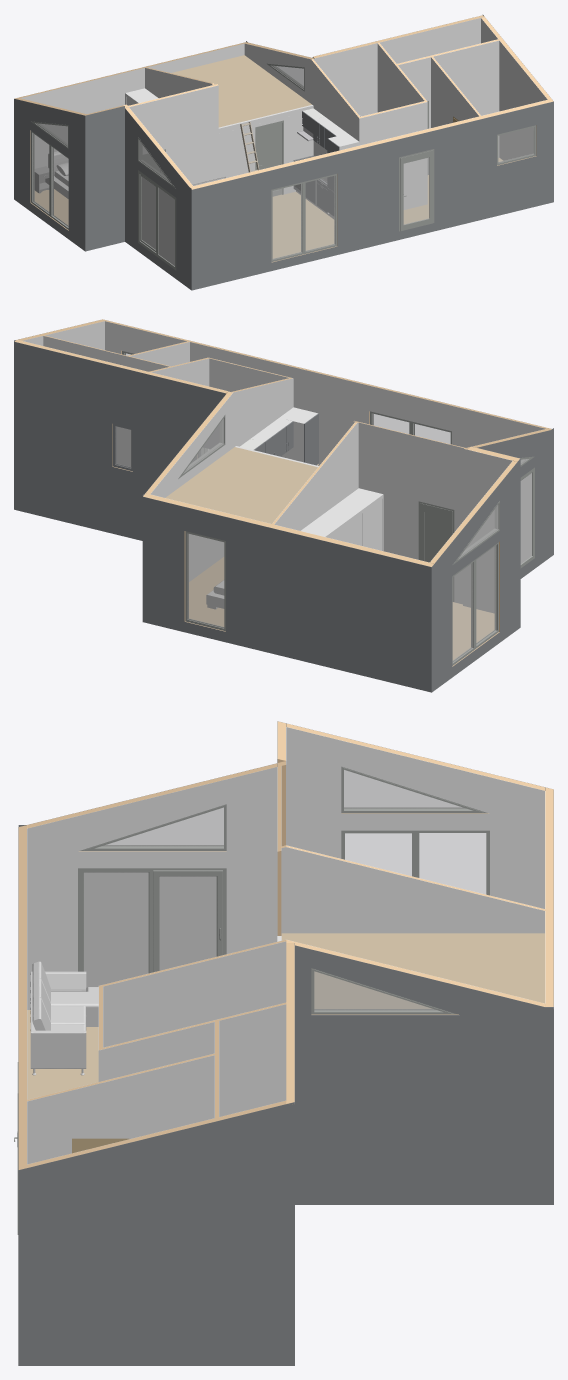
File: Antanas_(Besta11)_R03.fbx
3 views of the same model, one above another, from view 1: azimuth 30°, elevation 25°; view 2: azimuth 150°, elevation 25°; view 3: azimuth 270°, elevation 25° (orthographic). The views are drawn at different scales.
Visible parts, largest first — view 1: IfcWall/Part:2094238, IfcWall/Part:2054791, IfcWall/Part:2054807, IfcWall/Part:2094926, IfcWall/Part:2124785, IfcWall/Part:2054810, IfcSlab/Part:2108810, IfcWall/Part:2054824, IfcSlab/Part:2054827, IfcWall/Part:2054774, IfcWall/Part:2054779, IfcWall/Part:2124787 (+32 smaller); view 2: IfcWall/Part:2054825, IfcWall/Part:2094927, IfcWall/Part:2094237, IfcWall/Part:2054793, IfcWall/Part:2124785, IfcSlab/Part:2108810, IfcWindow/Langai:2100 x 1000 (varstomas, kairinis):2036476, IfcWall/Part:2054800, IfcWall/Part:2054810, IfcWall/Part:2094763, IfcWall/Part:2054821, IfcSlab/Part:2054827 (+25 smaller); view 3: IfcWall/Part:2124788, IfcWall/Part:2054822, IfcWall/Part:2054809, IfcWall/Part:2124784, IfcDoor/Stumdomos durys:Sliding door:2006738, IfcWall/Part:2054801, IfcSlab/Part:2108810, IfcWall/Part:2054781, IfcWall/Part:2054785, IfcWall/Part:2054796, IfcFurnishingElement/059_Enzo_Modular_Sof:059_Enzo_Modular_S, IfcWindow/Langai:2100 x 1000 (varstomas, dešininis):2092426 (+15 smaller).
Boxes of the visible parts, x1,y1,x2,y2 form: IfcWall/Part:2094238: [191, 101, 553, 290]; IfcWall/Part:2054791: [129, 85, 218, 184]; IfcWall/Part:2054807: [85, 106, 126, 251]; IfcWall/Part:2094926: [313, 17, 484, 116]; IfcWall/Part:2124785: [14, 98, 84, 250]; IfcWall/Part:2054810: [125, 108, 191, 290]; IfcSlab/Part:2108810: [171, 55, 311, 127]; IfcWall/Part:2054824: [21, 43, 244, 168]; IfcSlab/Part:2054827: [34, 158, 503, 258]; IfcWall/Part:2054774: [433, 40, 499, 157]; IfcWall/Part:2054779: [359, 102, 427, 209]; IfcWall/Part:2124787: [481, 18, 547, 160]; IfcWall/Part:2054825: [142, 496, 431, 692]; IfcWall/Part:2094927: [14, 341, 225, 540]; IfcWall/Part:2094237: [105, 321, 545, 465]; IfcWall/Part:2054793: [358, 422, 463, 604]; IfcWall/Part:2124785: [431, 459, 520, 692]; IfcSlab/Part:2108810: [165, 447, 317, 523]; IfcWindow/Langai:2100 x 1000 (varstomas, kairinis):2036476: [185, 531, 225, 631]; IfcWall/Part:2054800: [274, 422, 358, 530]; IfcWall/Part:2054810: [477, 428, 553, 578]; IfcWall/Part:2094763: [463, 448, 512, 613]; IfcWall/Part:2054821: [150, 393, 233, 581]; IfcSlab/Part:2054827: [189, 557, 494, 659]; IfcWall/Part:2124788: [18, 1102, 294, 1365]; IfcWall/Part:2054822: [295, 945, 553, 1204]; IfcWall/Part:2054809: [27, 767, 277, 1009]; IfcWall/Part:2124784: [286, 727, 544, 908]; IfcDoor/Stumdomos durys:Sliding door:2006738: [78, 868, 226, 991]; IfcWall/Part:2054801: [281, 847, 544, 933]; IfcSlab/Part:2108810: [281, 933, 544, 1008]; IfcWall/Part:2054781: [27, 1055, 214, 1164]; IfcWall/Part:2054785: [103, 941, 286, 1047]; IfcWall/Part:2054796: [219, 1004, 286, 1116]; IfcFurnishingElement/059_Enzo_Modular_Sof:059_Enzo_Modular_S: [30, 961, 98, 1075]; IfcWindow/Langai:2100 x 1000 (varstomas, dešininis):2092426: [416, 830, 489, 895].
Bounding box in the file's own units: 1212 × 391 × 726.
